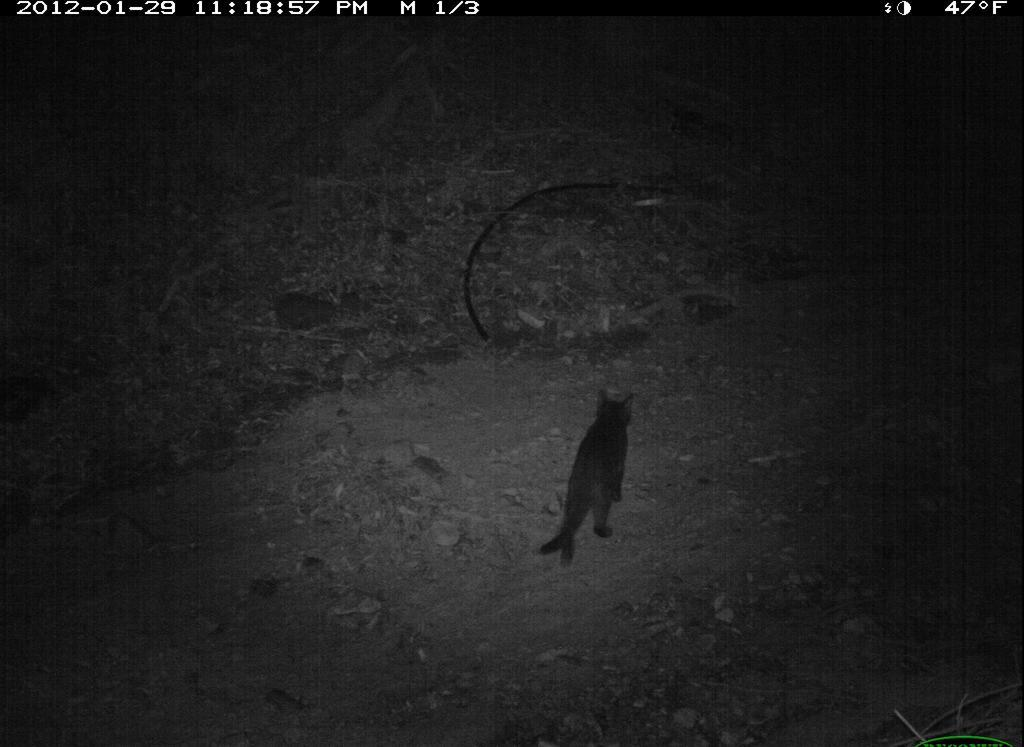cat: (525, 379, 649, 574)
